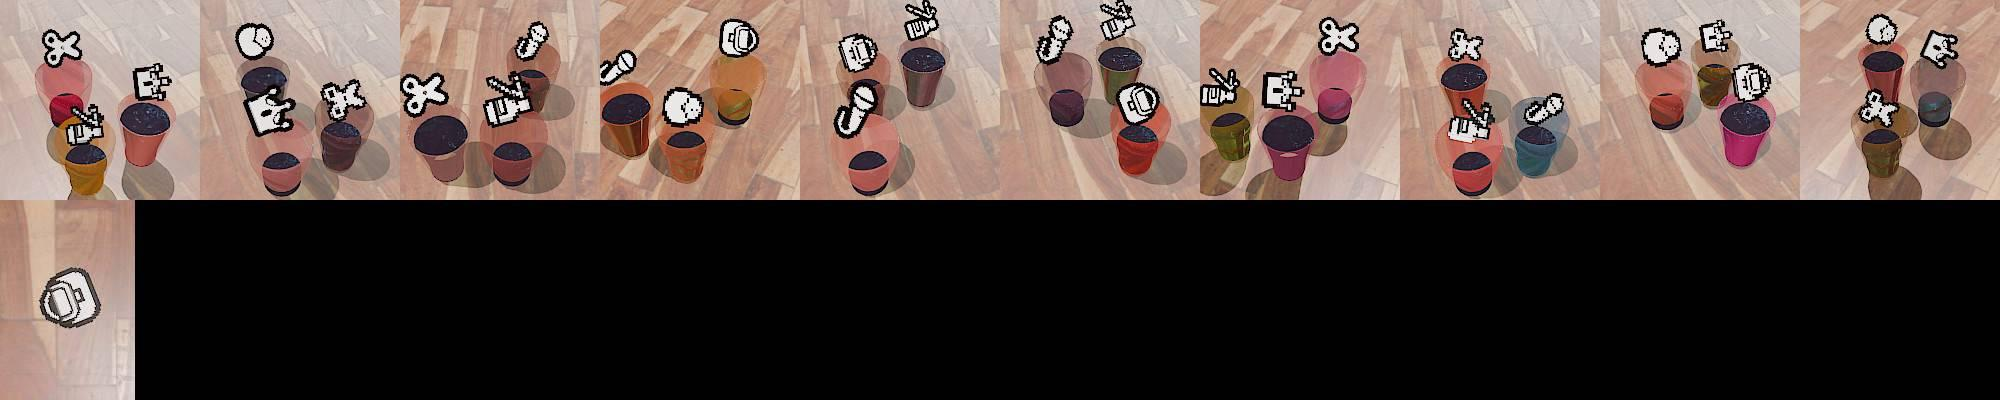icon: (37, 268, 102, 329), (482, 73, 534, 125), (242, 88, 297, 138), (833, 82, 880, 139), (401, 71, 450, 117), (1449, 94, 1496, 141), (320, 76, 369, 121), (1117, 82, 1161, 126), (1036, 14, 1074, 64), (65, 101, 106, 145), (661, 87, 705, 126), (1261, 69, 1302, 111), (1731, 61, 1773, 102), (718, 18, 760, 59), (1318, 17, 1361, 56), (1639, 27, 1682, 66), (133, 62, 173, 103), (1200, 66, 1240, 107), (1920, 28, 1959, 69), (838, 33, 878, 73), (235, 22, 274, 61), (42, 28, 83, 66), (1856, 89, 1898, 126), (1098, 0, 1136, 39), (598, 48, 638, 87), (513, 20, 550, 61), (1522, 92, 1566, 125), (904, 0, 940, 41), (1448, 28, 1485, 62), (1698, 19, 1732, 54), (1865, 14, 1899, 46)
